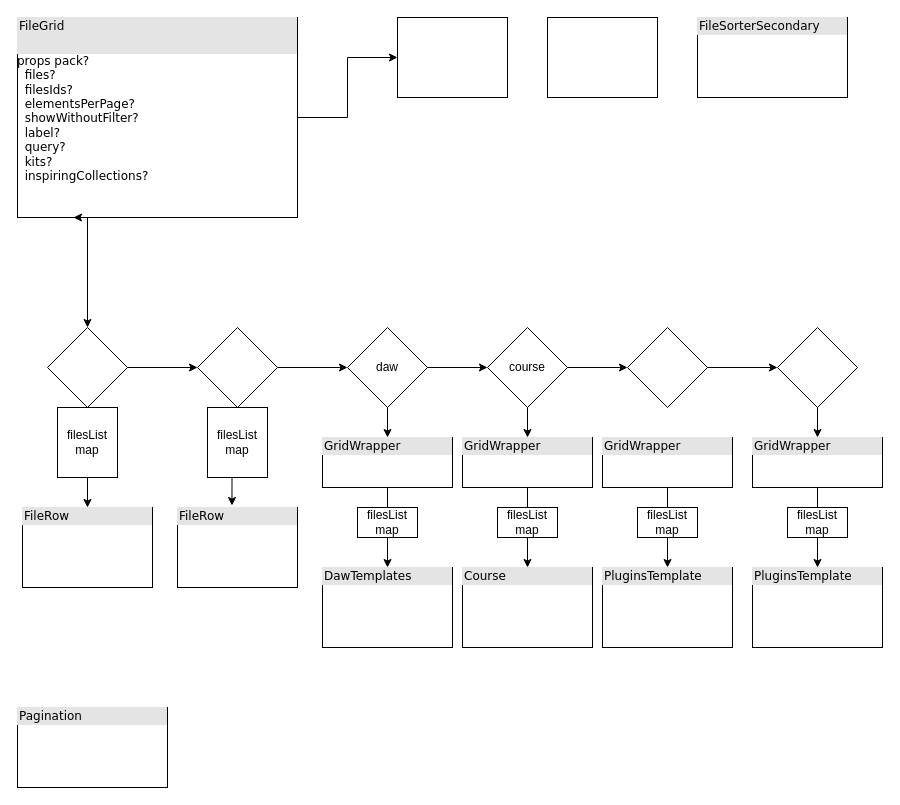
The diagram is 900 pixels wide and 805 high, and some of its shapes have lost their labels. The box of each missing label's shape, as (x1, y1, x2, y2) in pixels:
kits: (196, 326, 278, 408)
ListFilterBar: (546, 16, 658, 98)
mp3 || midi: (46, 326, 128, 408)
pack: (776, 326, 858, 408)
plugin: (626, 326, 708, 408)
TypeFilter DropDownFilters TagsFilter: (396, 16, 508, 98)
